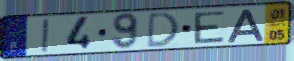4: (64, 15, 97, 53)
9: (111, 12, 140, 52)
A: (225, 8, 266, 44)
D: (145, 10, 181, 50)
E: (192, 9, 226, 45)
I: (40, 18, 51, 54)
